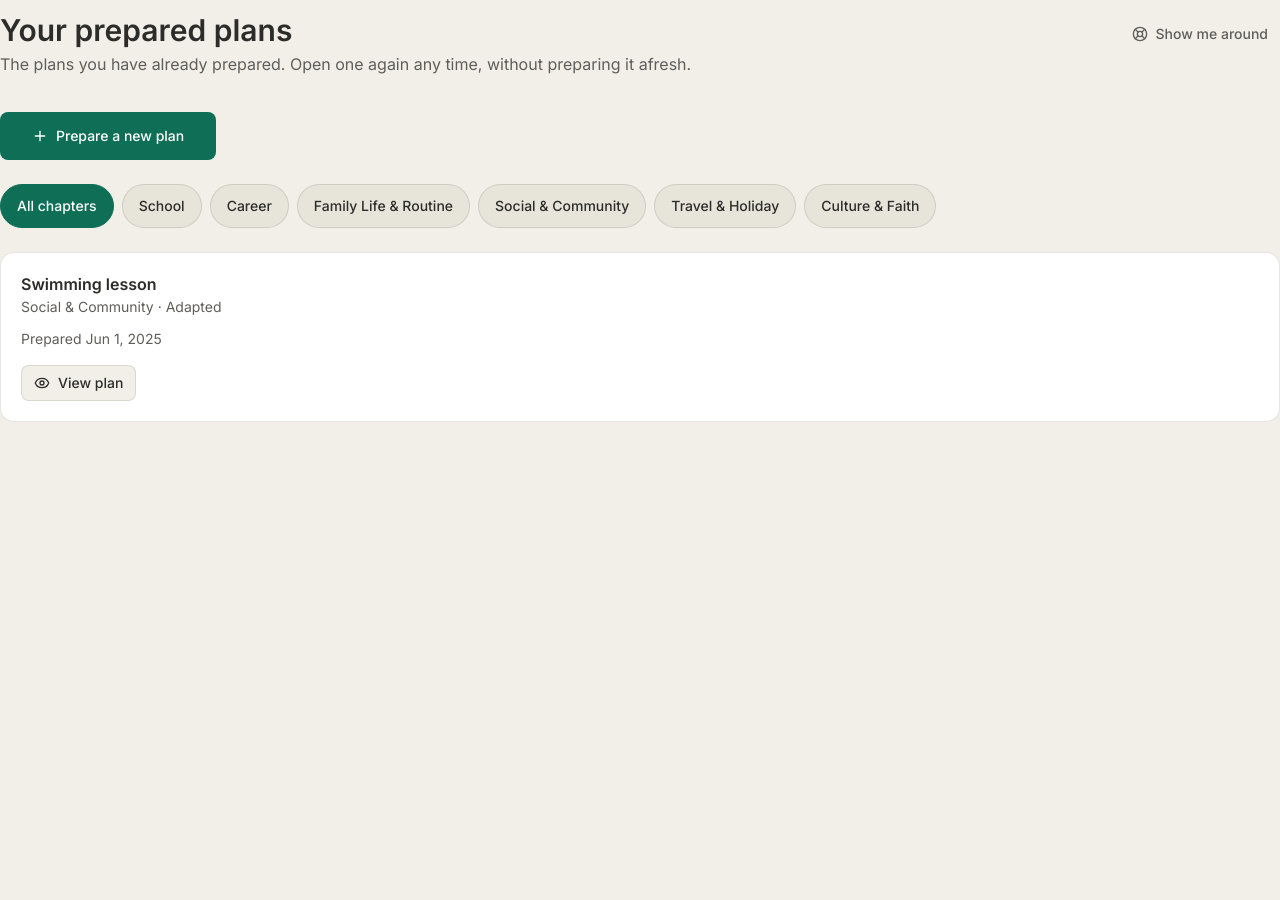
Test: PlansList › handles the null dimension_explanations a stored read returns (omits the breakdown, no crash)
Expected: the heading "Swimming lesson" is shown, x1=21 y1=274 x2=157 y2=294
What coordinates should you click on to do the following:
click the button "View plan"
I would click on:
 (79, 383)
Its box is x1=21 y1=365 x2=136 y2=401.
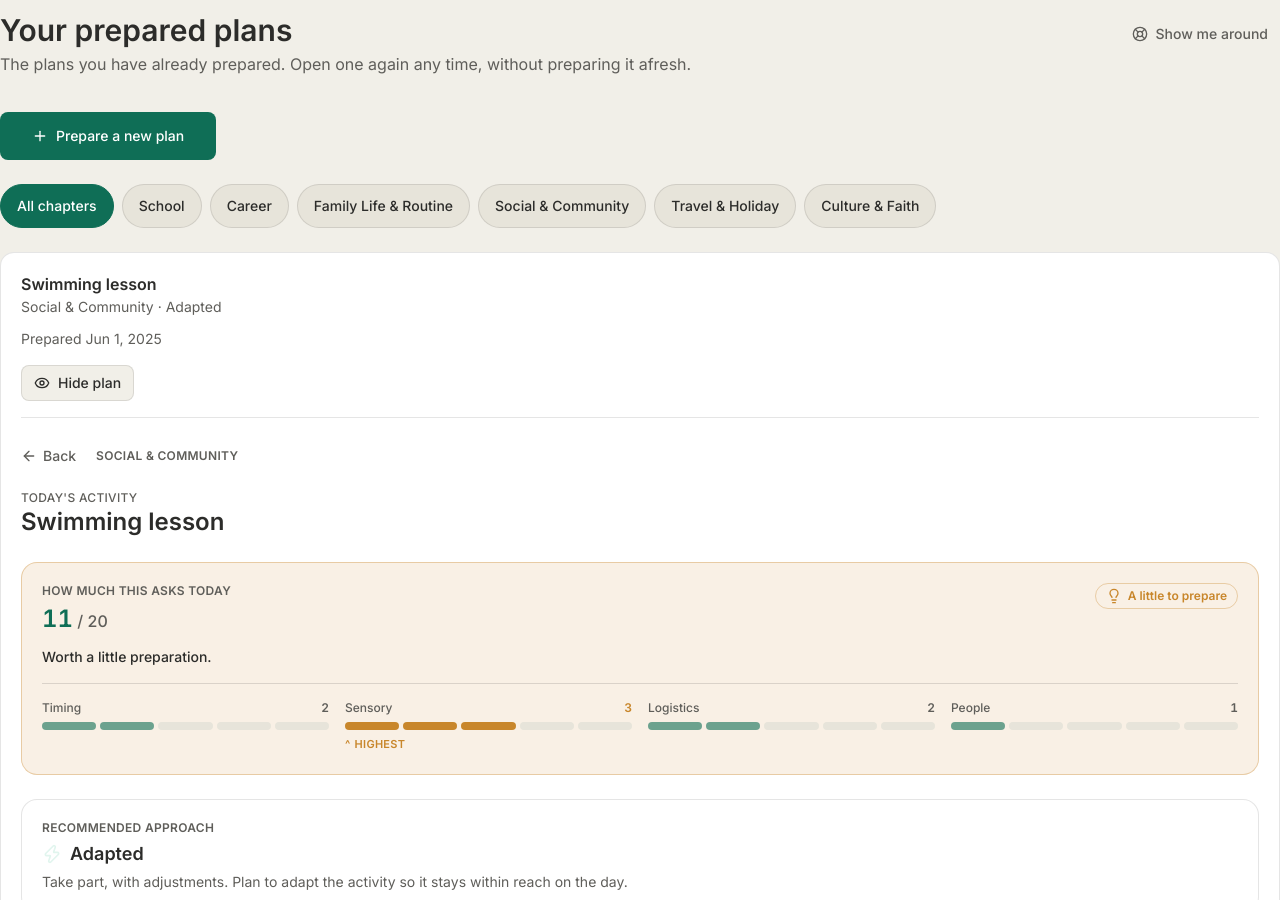
Expected: the heading "Adapted" is shown, x1=70 y1=840 x2=144 y2=868
